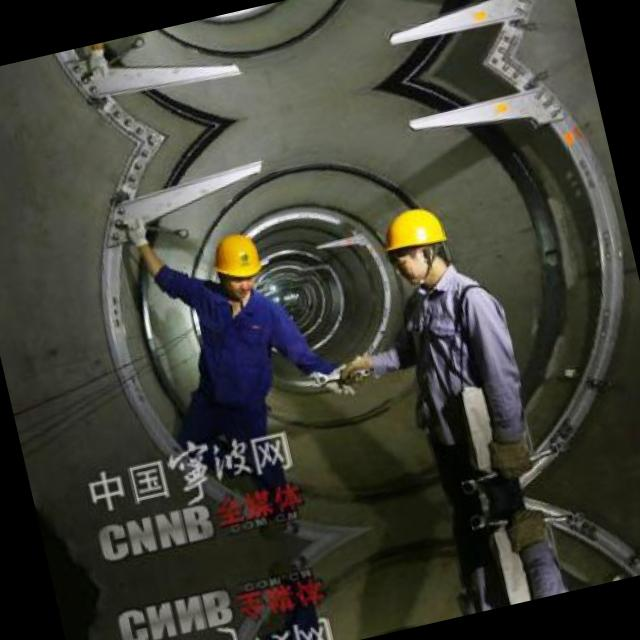helmet: (369, 192, 459, 294), (201, 225, 267, 303)
